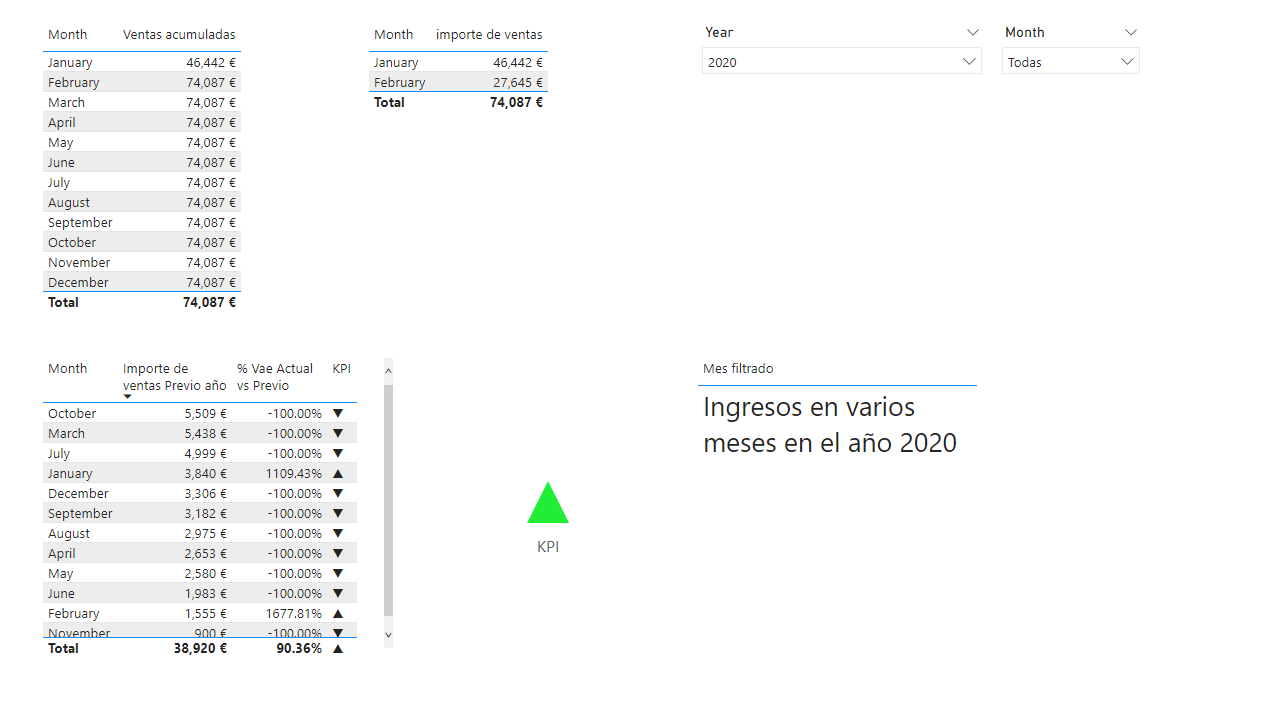

The dashboard page shown, as its layout file describes it:
{"tool":"powerbi","page":{"name":"DAX","canvas":[1280,720],"ordinal":3},"visuals":[{"type":"tableEx","fields":{"Values":["Calendario.Date.Variación.Date Hierarchy.Month","Ventas.Ventas acumuladas"]},"box":[43.3,25.6,297.8,308.9],"z":0},{"type":"slicer","fields":{"Values":["Calendario.Date.Variación.Date Hierarchy.Year"]},"box":[697.8,25.6,300,83.3],"z":1},{"type":"tableEx","fields":{"Values":["Calendario.Date.Variación.Date Hierarchy.Month","Ventas.importe de ventas"]},"box":[368.9,25.6,287.8,308.9],"z":2},{"type":"tableEx","fields":{"Values":["Calendario.Date.Variación.Date Hierarchy.Month","Ventas.Importe de ventas Pr","Ventas.% Vae Actual vs Previo","Ventas.KPI"]},"box":[43.3,360,361.1,308.9],"z":3},{"type":"card","fields":{"Values":["Ventas.KPI"]},"box":[404.4,360,300,308.9],"z":4},{"type":"tableEx","fields":{"Values":["Calendario.Mes filtrado"]},"box":[697.8,360,300,225.6],"z":5},{"type":"slicer","fields":{"Values":["Calendario.Date.Variación.Date Hierarchy.Month"]},"box":[997.8,25.6,157.8,83.3],"z":6}]}

Visuals, with their boxes in screenshot pixels (x1, y1, x2, y2), scaled from the page's 1280x720 canvas onto the 1265x705 screenshot:
tableEx - Calendario.Date.Variación.Date Hierarchy.Month x Ventas.Ventas acumuladas: {"x1": 43, "y1": 25, "x2": 337, "y2": 328}
slicer - Calendario.Date.Variación.Date Hierarchy.Year: {"x1": 690, "y1": 25, "x2": 986, "y2": 107}
tableEx - Calendario.Date.Variación.Date Hierarchy.Month x Ventas.importe de ventas: {"x1": 365, "y1": 25, "x2": 649, "y2": 328}
tableEx - Calendario.Date.Variación.Date Hierarchy.Month x Ventas.Importe de ventas Pr: {"x1": 43, "y1": 352, "x2": 400, "y2": 655}
card - Ventas.KPI: {"x1": 400, "y1": 352, "x2": 696, "y2": 655}
tableEx - Calendario.Mes filtrado: {"x1": 690, "y1": 352, "x2": 986, "y2": 573}
slicer - Calendario.Date.Variación.Date Hierarchy.Month: {"x1": 986, "y1": 25, "x2": 1142, "y2": 107}
